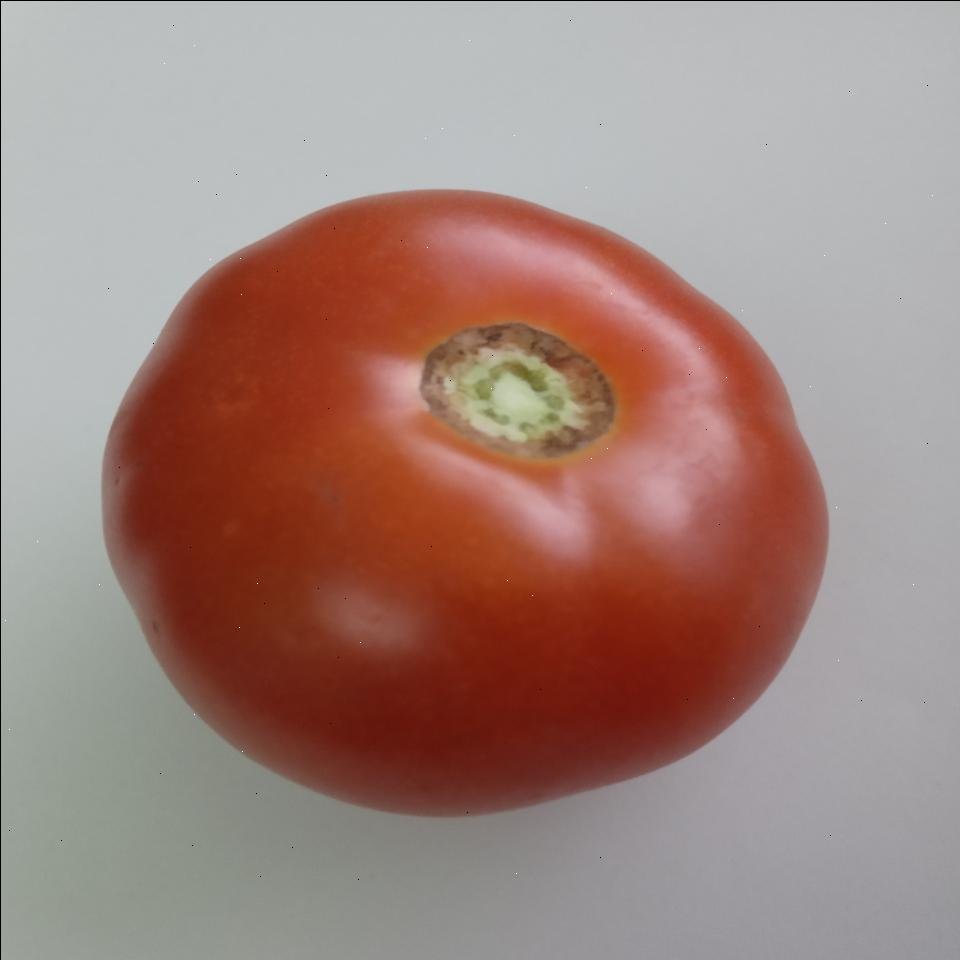Healthy: (84, 169, 841, 834)
